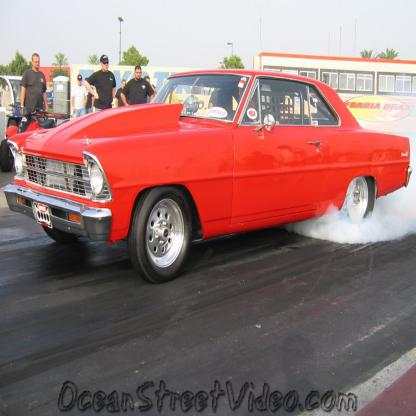face: (246, 91, 256, 113), (34, 58, 40, 70), (137, 71, 143, 81), (103, 63, 109, 71), (146, 81, 151, 88), (123, 83, 127, 88), (79, 79, 82, 85)
